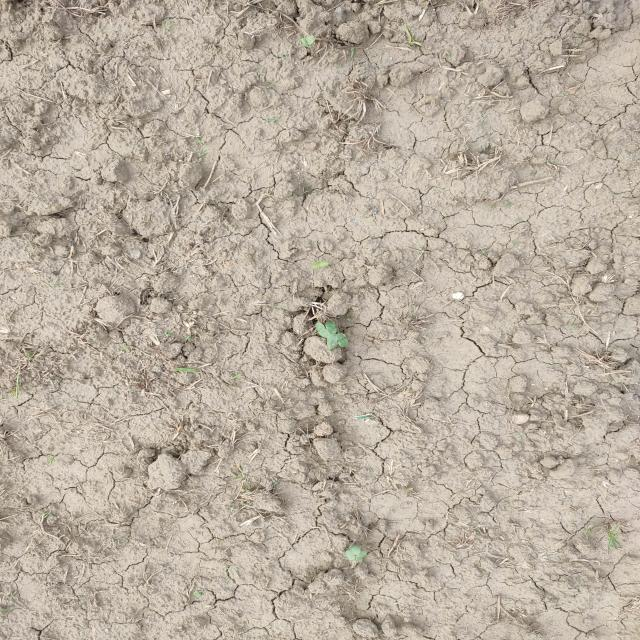seedling: (345, 545, 361, 561), (316, 322, 331, 338), (326, 334, 338, 350), (336, 333, 349, 347), (299, 35, 315, 46), (325, 321, 337, 335), (354, 551, 367, 562)
